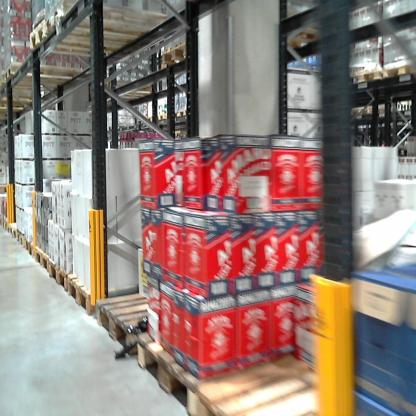pallet: (136, 314, 313, 415), (192, 355, 369, 416), (234, 5, 349, 61), (92, 275, 168, 357), (43, 3, 171, 47), (27, 20, 131, 60), (156, 37, 226, 72), (5, 57, 90, 85), (346, 57, 413, 87), (91, 76, 161, 96), (68, 274, 98, 317), (0, 75, 58, 95), (49, 259, 69, 292), (16, 229, 35, 261), (33, 244, 51, 275), (2, 100, 39, 113), (10, 222, 24, 240), (167, 109, 182, 120), (155, 112, 166, 123), (1, 219, 9, 233), (398, 99, 408, 110), (179, 109, 191, 117), (145, 115, 156, 123)
